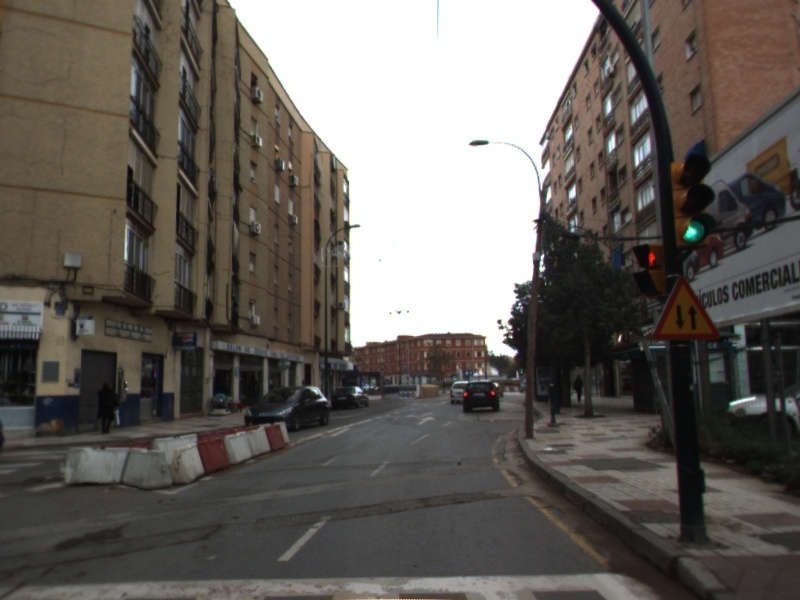STRAIGHT: (414, 414, 437, 427)
STRAIGHT_LEFT: (402, 408, 436, 420)
